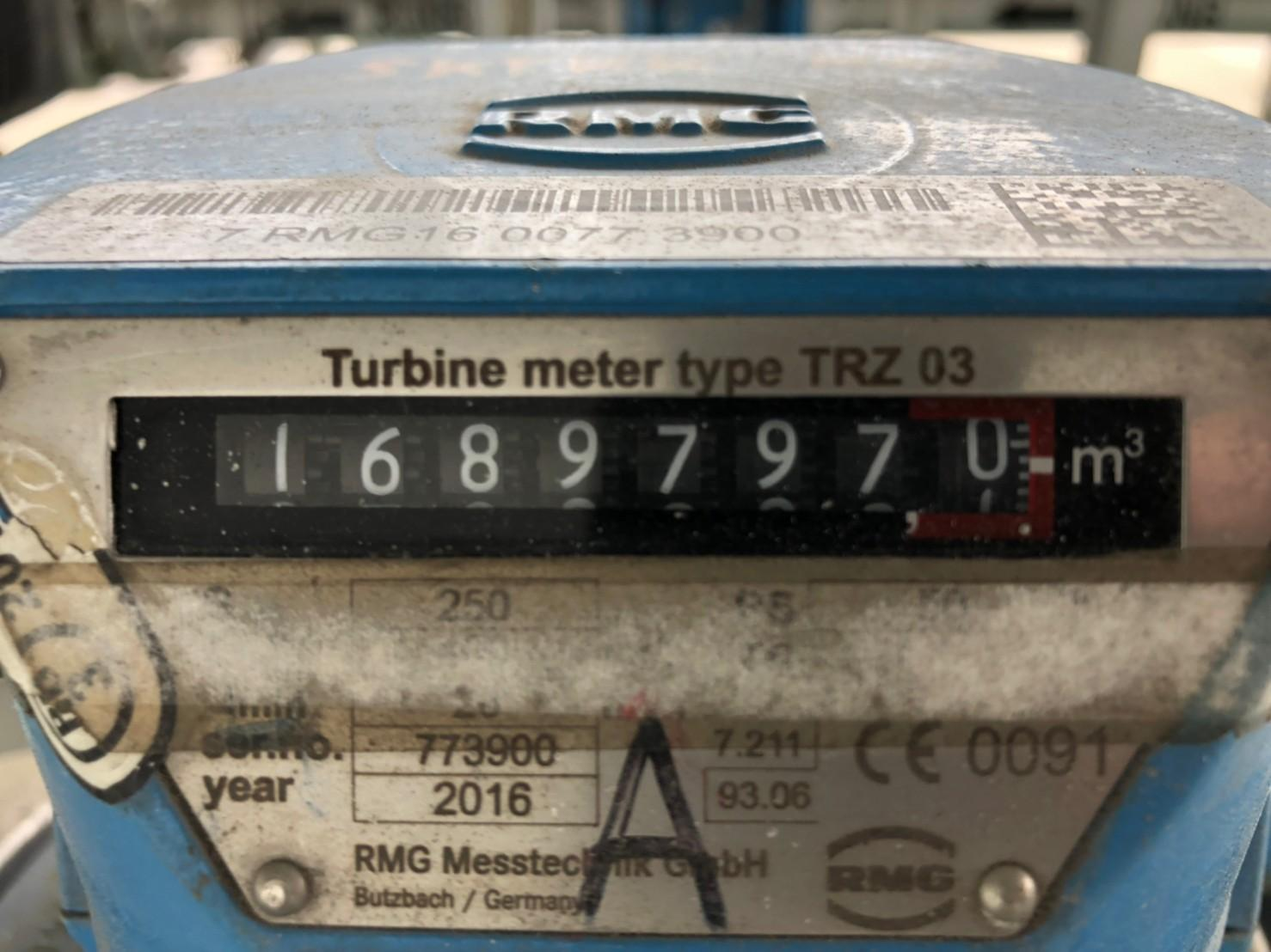analog_dial: (110, 397, 1182, 556)
